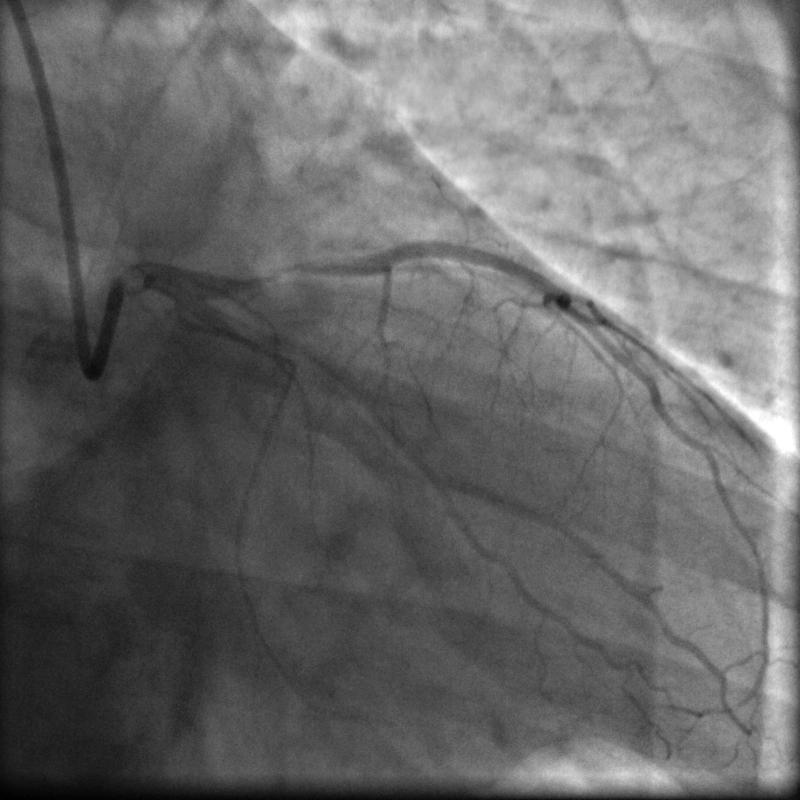Stenosis: (245, 255, 329, 286)
